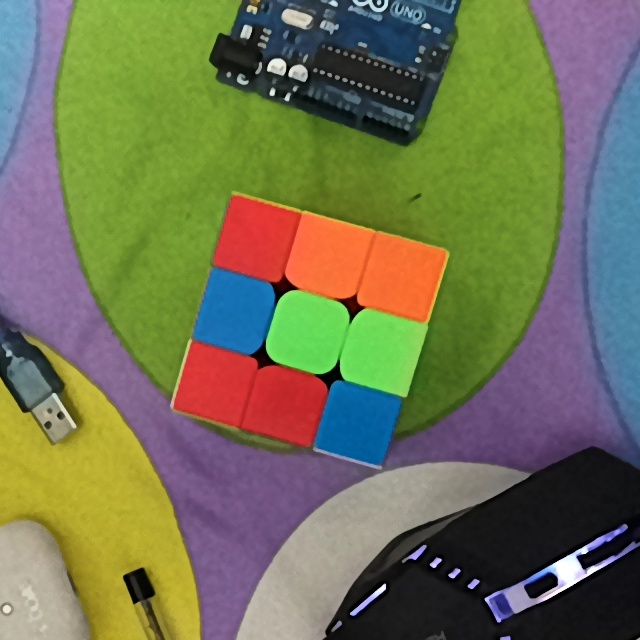tile: (298, 230, 359, 285), (375, 247, 430, 307), (354, 322, 411, 379), (230, 209, 282, 265), (258, 377, 312, 430), (283, 306, 334, 361), (212, 287, 263, 340), (186, 362, 240, 412), (334, 394, 383, 447)
